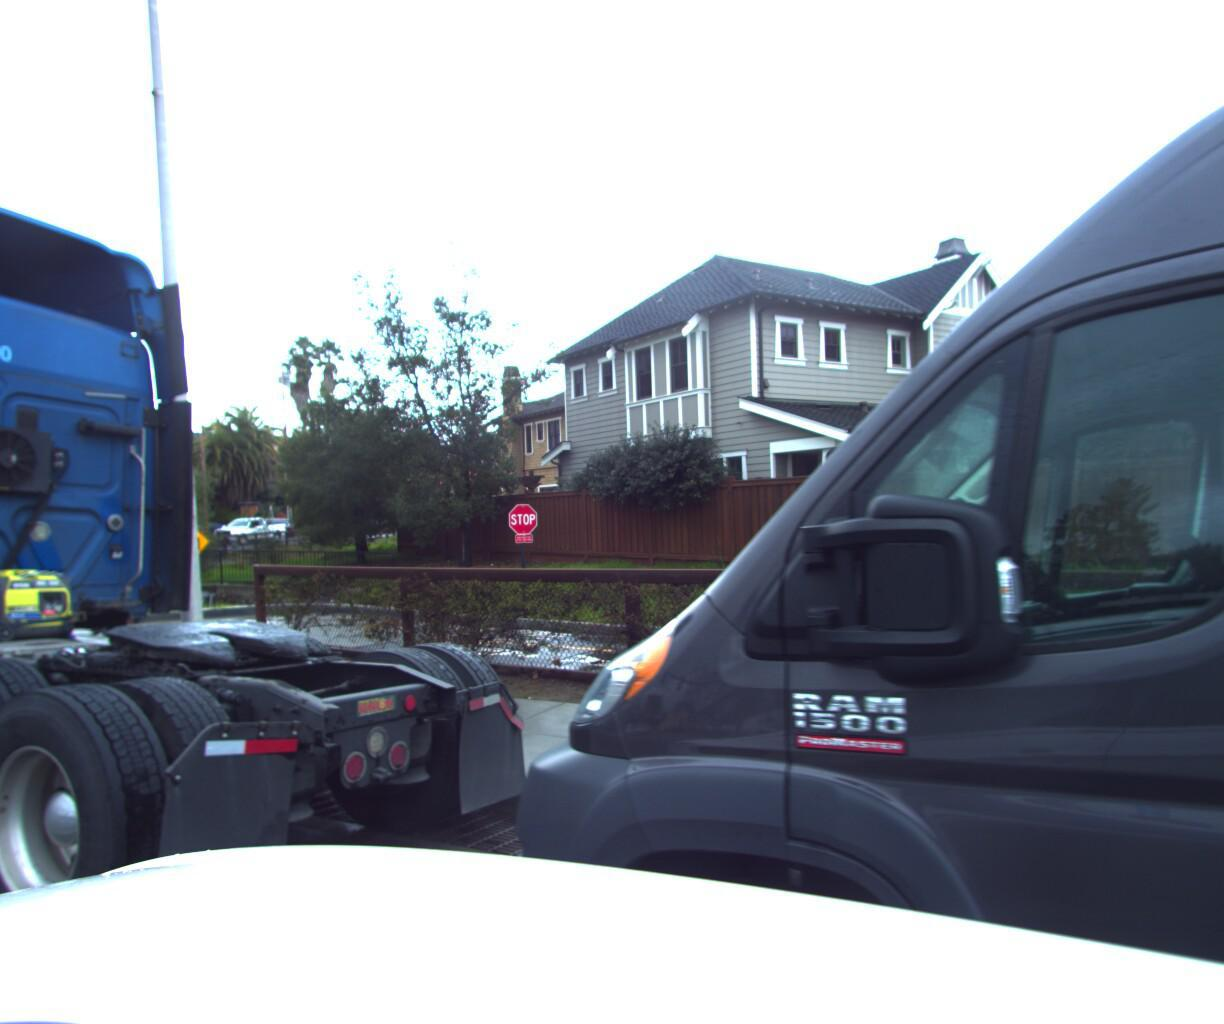car: (208, 514, 289, 544)
truck: (0, 0, 585, 1024)
